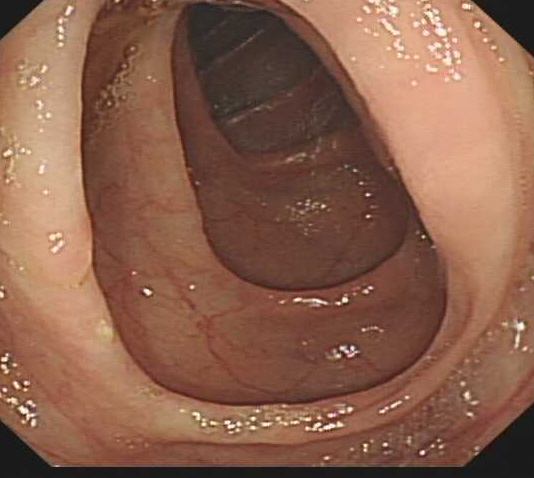others: (350, 16, 517, 233), (10, 41, 91, 280)
